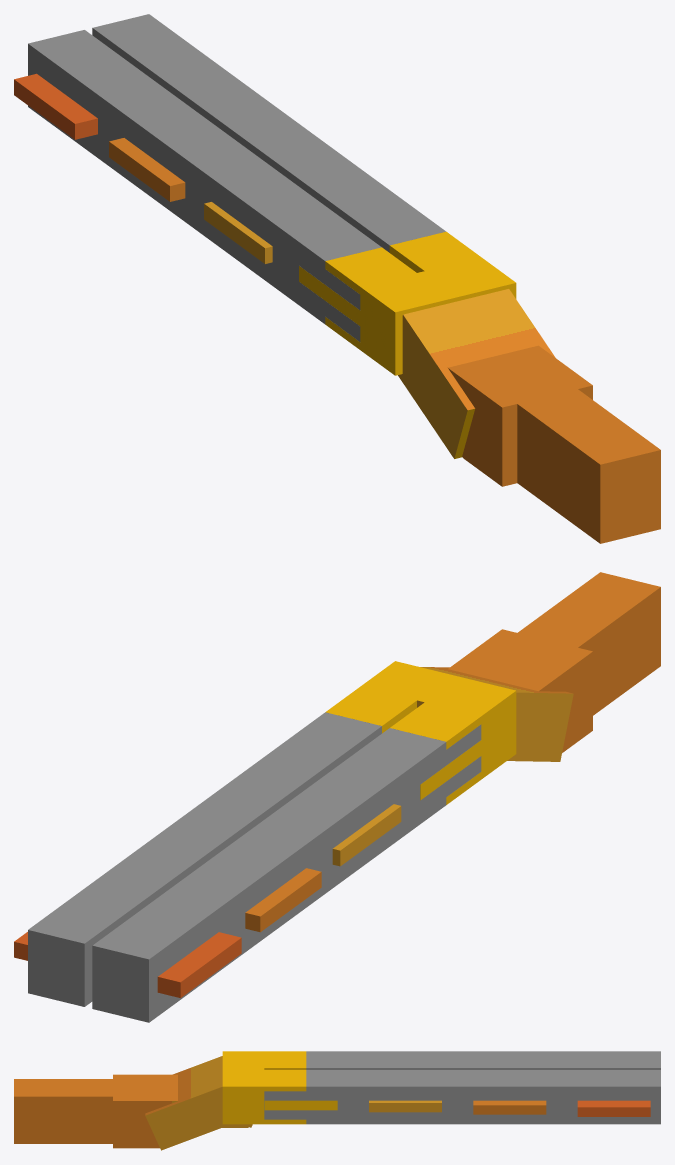
File: hornetgun.gltf
The picture shows the model from 3 angles, top to bottom: view 1: azimuth 30°, elevation 25°; view 2: azimuth 150°, elevation 25°; view 3: azimuth 270°, elevation 25°; orthographic projection. The views are drawn at different scales.
Visible parts, largest first — view 1: Mesh_Mesh_head_geo.001_lambert2SG.001 (×2); view 2: Mesh_Mesh_head_geo.001_lambert2SG.001 (×2); view 3: Mesh_Mesh_head_geo.001_lambert2SG.001 (×2).
Boxes of the visible parts, x1=… form: Mesh_Mesh_head_geo.001_lambert2SG.001 (×2): x1=14, y1=14, x2=660, y2=543; Mesh_Mesh_head_geo.001_lambert2SG.001 (×2): x1=14, y1=572, x2=660, y2=1022; Mesh_Mesh_head_geo.001_lambert2SG.001 (×2): x1=14, y1=1051, x2=660, y2=1150.
Bounding box in the file's own units: 0.242 × 0.154 × 1.36.
2 materials, 2 textured.
